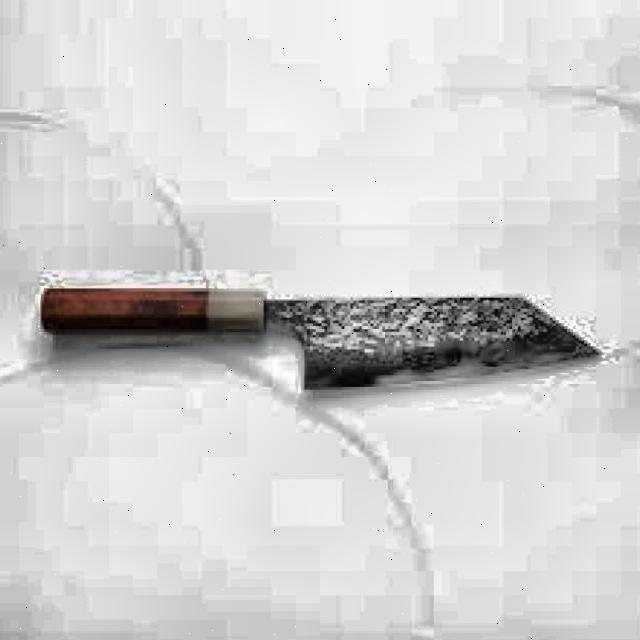knife: (41, 280, 604, 398)
